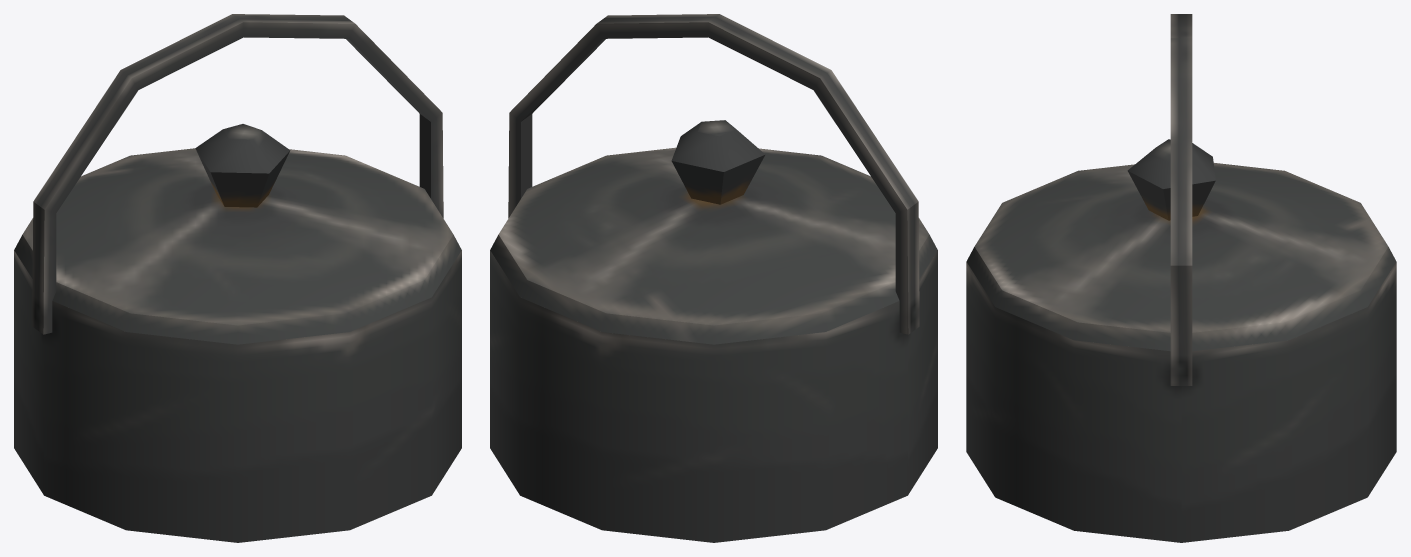
The model's file is KTB0110017.fbx.
3 renders of one model, left to right at view 1: azimuth 30°, elevation 25°; view 2: azimuth 150°, elevation 25°; view 3: azimuth 270°, elevation 25°, orthographic. The views are drawn at different scales.
Parts seen in each view (by area): view 1: smKTB0110017; view 2: smKTB0110017; view 3: smKTB0110017.
Boxes of the visible parts, x1=… form: smKTB0110017: x1=14, y1=14, x2=461, y2=542; smKTB0110017: x1=490, y1=14, x2=937, y2=542; smKTB0110017: x1=966, y1=14, x2=1396, y2=542.
Bounding box in the file's own units: 40.57 × 41.66 × 39.29.
1 material, 1 textured.
